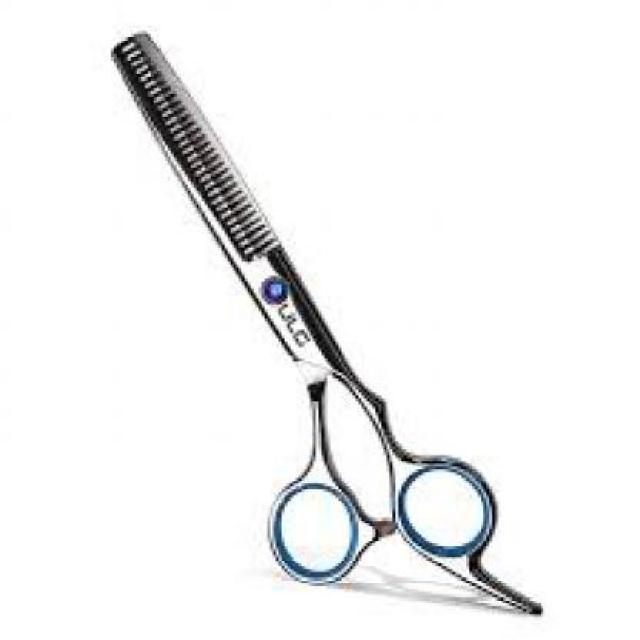scissors: (108, 31, 550, 620)
